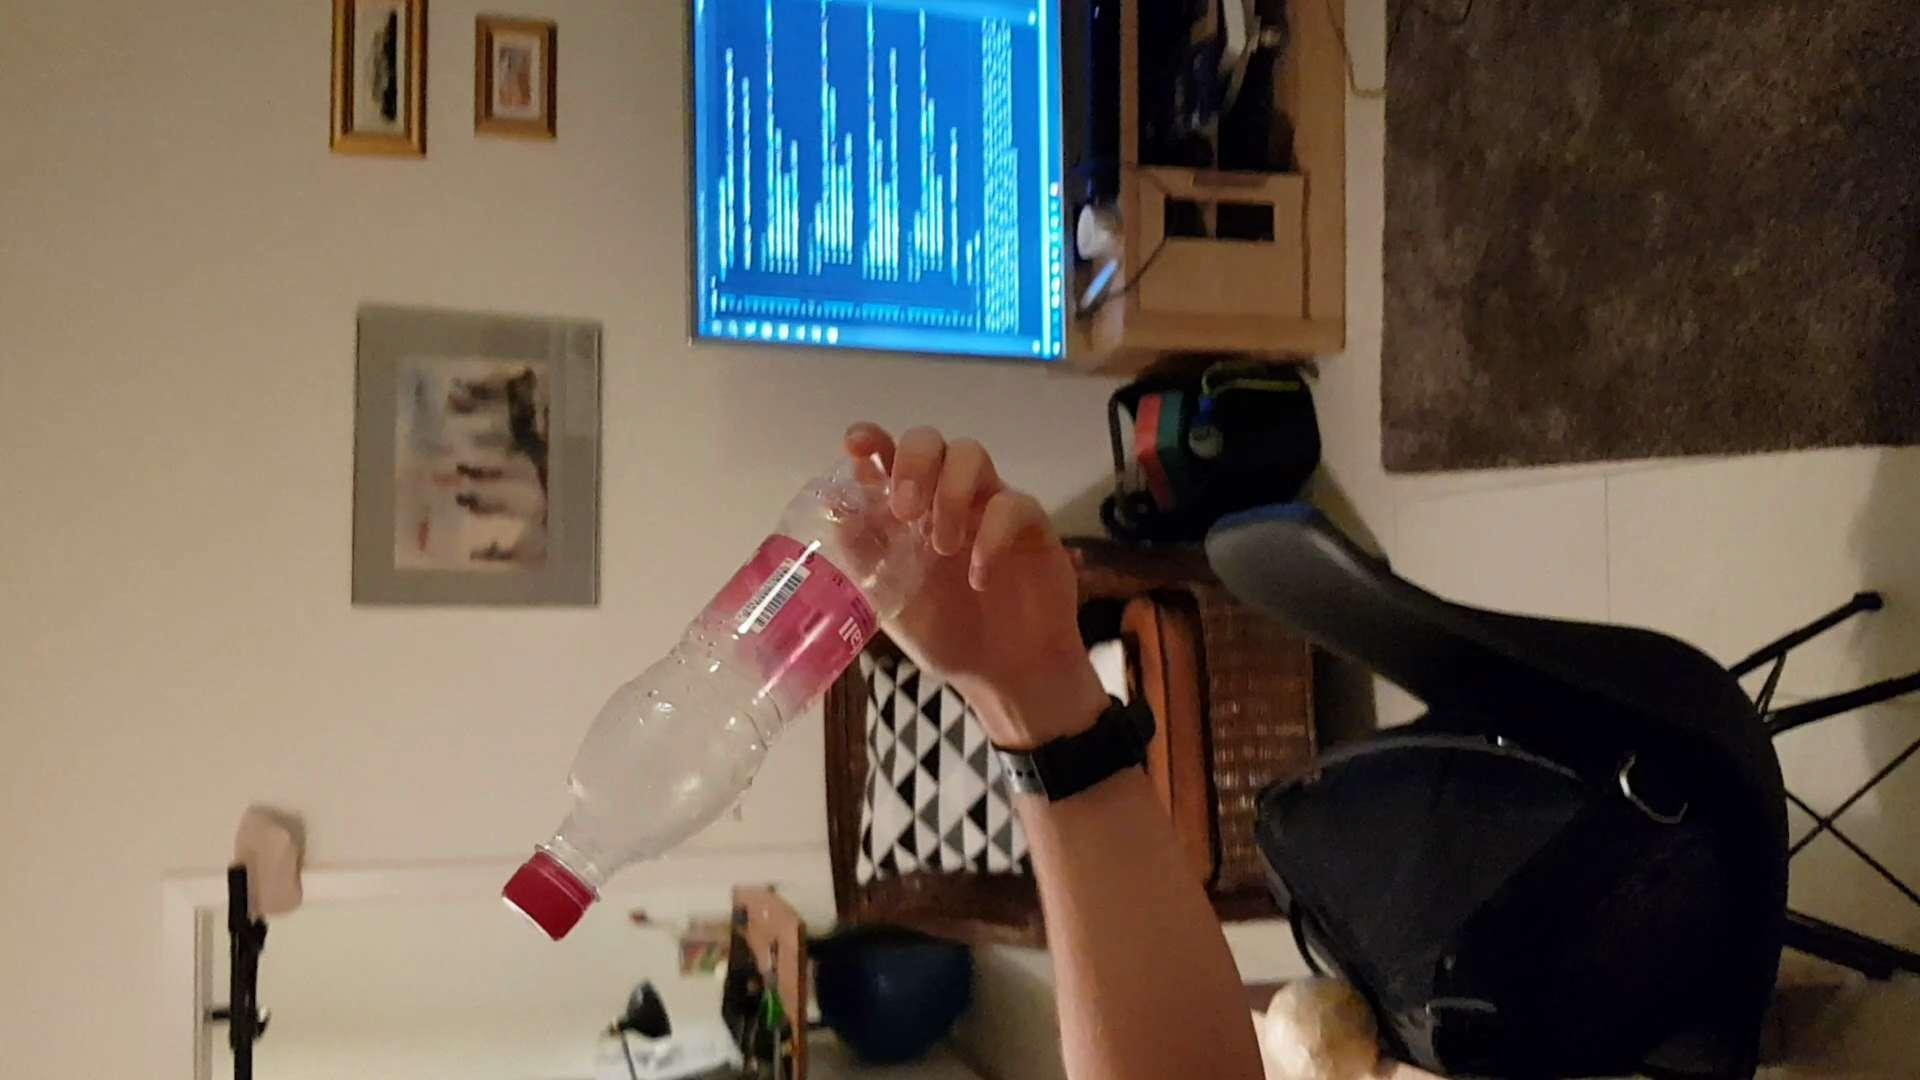Bottle: (501, 462, 924, 934)
